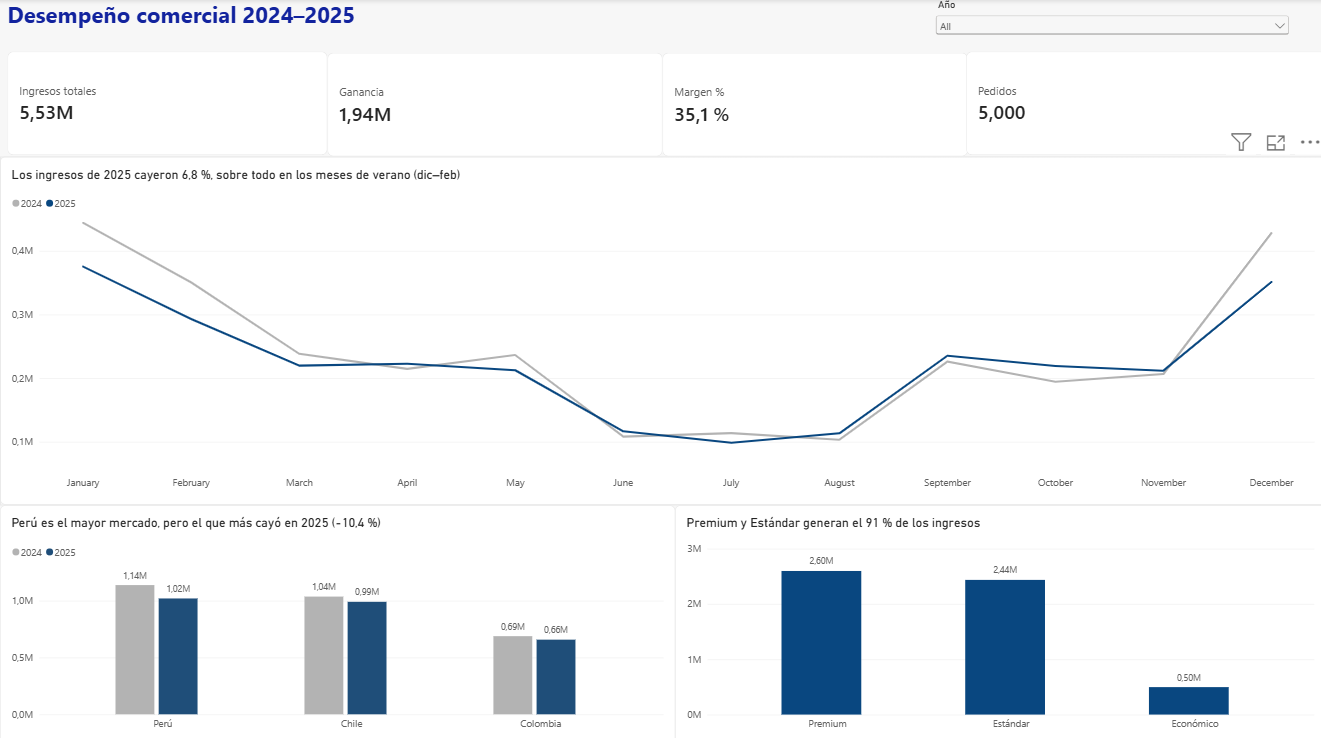

This screenshot's page, from the dashboard's own definition file:
{"tool":"powerbi","page":{"name":"Vista General","canvas":[1920,1080],"ordinal":0},"visuals":[{"type":"textbox","box":[10.3,0,520.8,78.2],"z":0},{"type":"slicer","fields":{"Values":["Ventas.Año"]},"box":[1399.7,2.1,520.8,57.6],"z":1},{"type":"cardVisual","fields":{"Data":["Ventas.Ingresos totales"]},"box":[10.3,76.2,463.1,150.3],"z":2},{"type":"cardVisual","fields":{"Data":["Ventas.Ganancia"]},"box":[473.4,78.2,485.8,150.3],"z":3},{"type":"cardVisual","fields":{"Data":["Ventas.Margen %"]},"box":[959.2,78.2,442.5,150.3],"z":4},{"type":"cardVisual","fields":{"Data":["Ventas.Pedidos (texto)"]},"box":[1399.7,76.2,520.8,150.3],"z":5},{"type":"lineChart","title":"Los ingresos de 2025 cayeron 6,8 %, sobre todo en los meses de verano (dic–feb)","fields":{"Category":["Ventas.Fecha_Pedido.Variation.Date Hierarchy.Month"],"Series":["Ventas.Año"],"Y":["Ventas.Ingresos totales"]},"box":[0,228.5,1920.4,504.3],"z":6},{"type":"clusteredColumnChart","title":"Perú es el mayor mercado, pero el que más cayó en 2025 (−10,4 %)","fields":{"Category":["Ventas.País"],"Series":["Ventas.Año"],"Y":["Ventas.Ingresos totales"]},"box":[0,732.8,977.7,347.9],"z":7},{"type":"clusteredColumnChart","title":"Premium y Estándar generan el 91 % de los ingresos","fields":{"Category":["Ventas.Segmento_Cliente"],"Y":["Ventas.Ingresos totales"]},"box":[977.7,732.8,942.7,347.9],"z":8}]}

Visuals, with their boxes in screenshot pixels (x1, y1, x2, y2), scaled from the page's 1920x1080 canvas onto the 1321x738 screenshot:
textbox: box=[7, 0, 365, 53]
slicer - Ventas.Año: box=[963, 1, 1320, 41]
cardVisual - Ventas.Ingresos totales: box=[7, 52, 326, 155]
cardVisual - Ventas.Ganancia: box=[326, 53, 660, 156]
cardVisual - Ventas.Margen %: box=[660, 53, 964, 156]
cardVisual - Ventas.Pedidos (texto): box=[963, 52, 1320, 155]
"Los ingresos de 2025 cayeron 6,8 %, sobre todo en los meses de verano (dic–feb)" lineChart: box=[0, 156, 1320, 501]
"Perú es el mayor mercado, pero el que más cayó en 2025 (−10,4 %)" clusteredColumnChart: box=[0, 501, 673, 737]
"Premium y Estándar generan el 91 % de los ingresos" clusteredColumnChart: box=[673, 501, 1320, 737]
